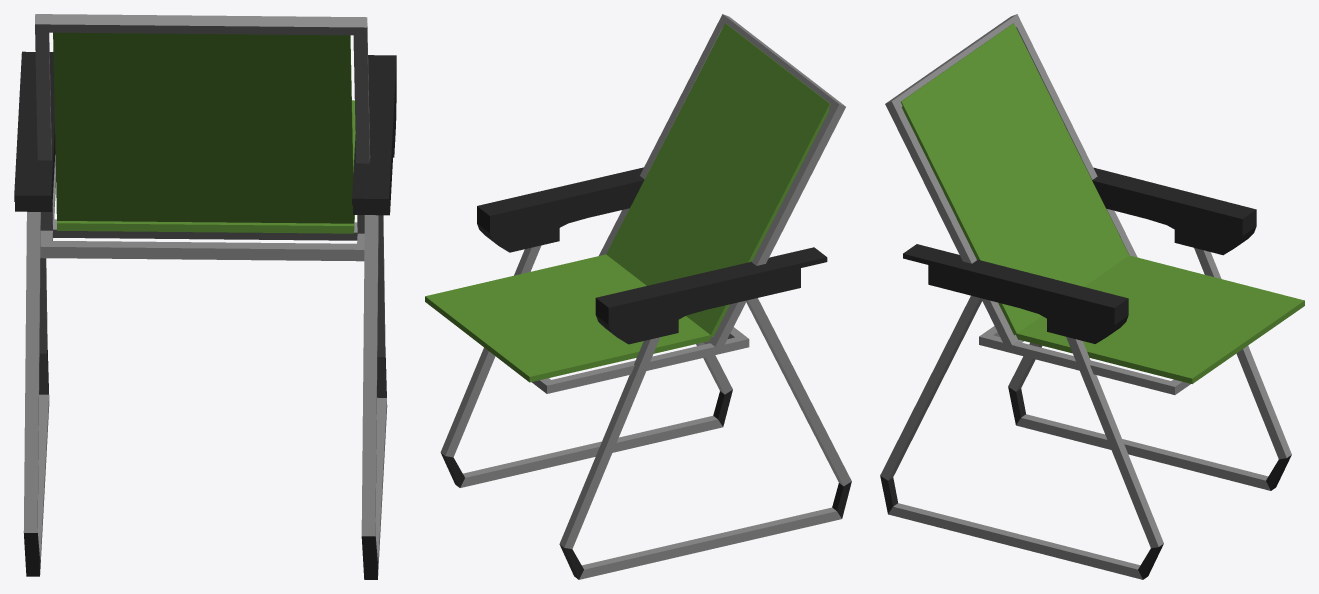
File: CampingChair.fbx
The picture shows the model from 3 angles, left to right: view 1: azimuth 30°, elevation 25°; view 2: azimuth 150°, elevation 25°; view 3: azimuth 270°, elevation 25°; orthographic projection. The views are drawn at different scales.
Visible parts, largest first — view 1: CampingChair_Red.001; view 2: CampingChair_Red.001; view 3: CampingChair_Red.001.
Boxes of the visible parts, <box> form: CampingChair_Red.001: <box>14,14,396,579</box>; CampingChair_Red.001: <box>425,14,851,579</box>; CampingChair_Red.001: <box>880,14,1304,579</box>.
Bounding box in the file's own units: 89.7 × 104 × 97.4.
